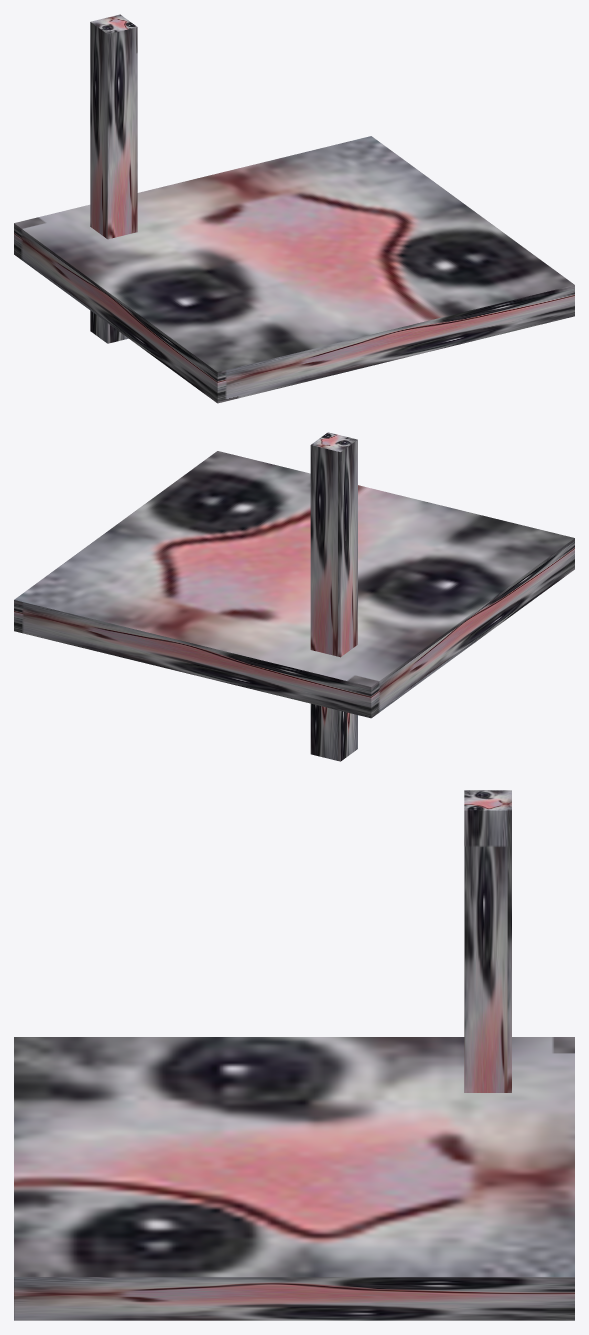
Rendered from basic_geo.fbx.
3 renders of one model, top to bottom at view 1: azimuth 30°, elevation 25°; view 2: azimuth 150°, elevation 25°; view 3: azimuth 270°, elevation 25°, orthographic. The views are drawn at different scales.
Parts seen in each view (by area): view 1: Cube; view 2: Cube; view 3: Cube.
Boxes of the visible parts, bbox=[...] form: Cube: bbox=[14, 14, 574, 403]; Cube: bbox=[14, 432, 574, 761]; Cube: bbox=[14, 790, 574, 1320].
Size of the model in its own units: 2386 by 1974 by 2354.
